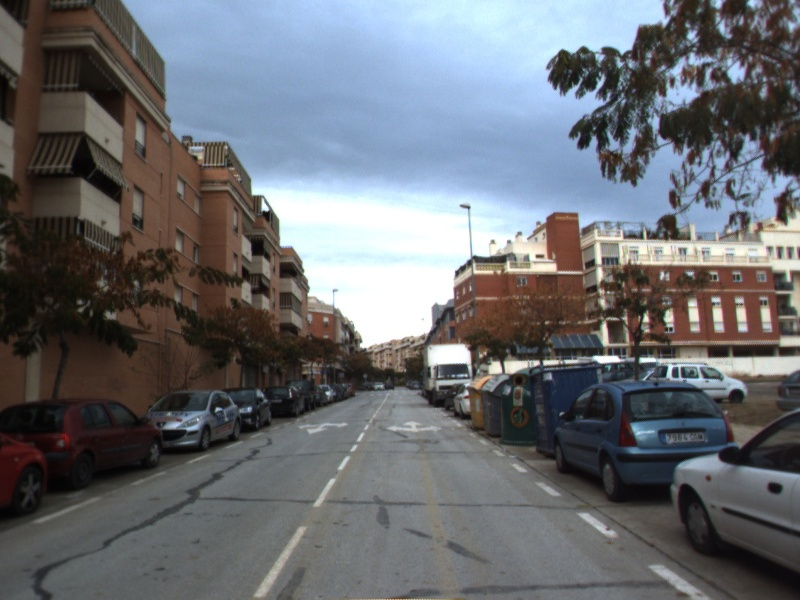STRAIGHT_LEFT_RIGHT: (384, 419, 445, 435)
